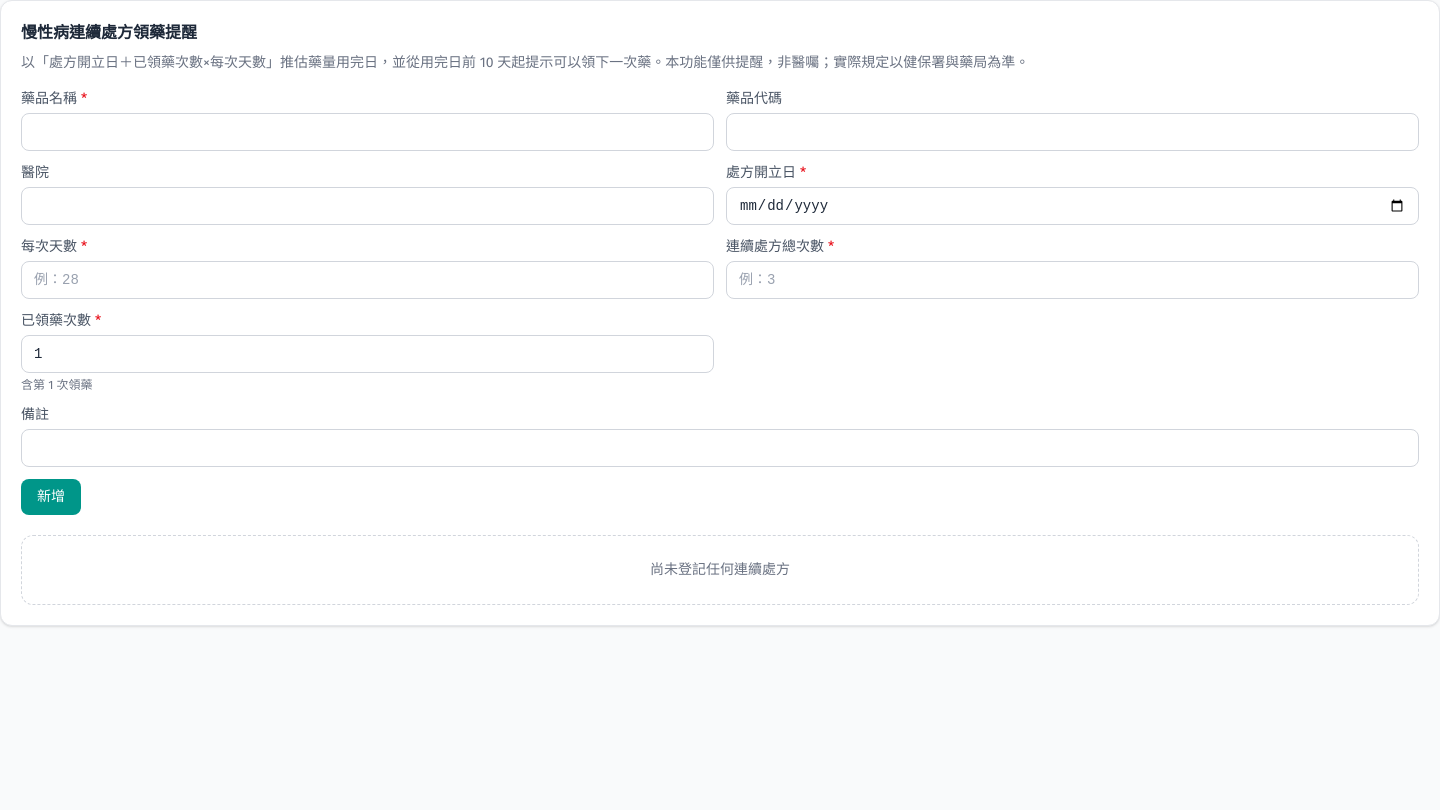
Scenario: RefillPlanner › 新增 › 新增成功後出現在清單，並重置輸入
This screenshot has width=1440, height=810.
Step 1. Type "降血壓藥" into the field labelled "藥品名稱" → (368, 132), box x1=21 y1=113 x2=714 y2=151
Step 2. Type "2026-10-10" into the date field labelled "處方開立日" → (1072, 206), box x1=726 y1=187 x2=1419 y2=225
Step 3. Type "28" into the field labelled "每次天數" → (368, 280), box x1=21 y1=261 x2=714 y2=299
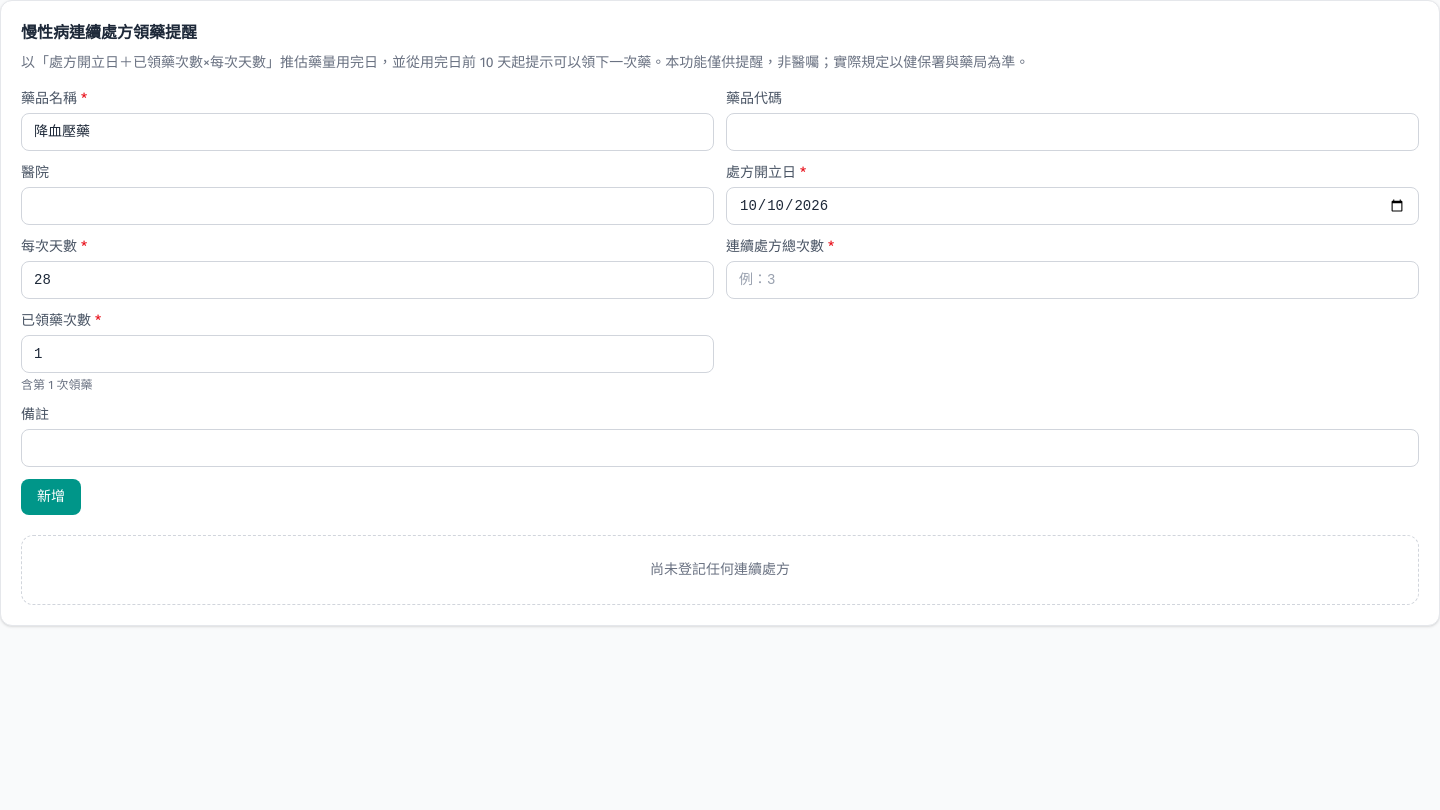
Step 4. Type "3" into the field labelled "連續處方總次數" → (1072, 280), box x1=726 y1=261 x2=1419 y2=299
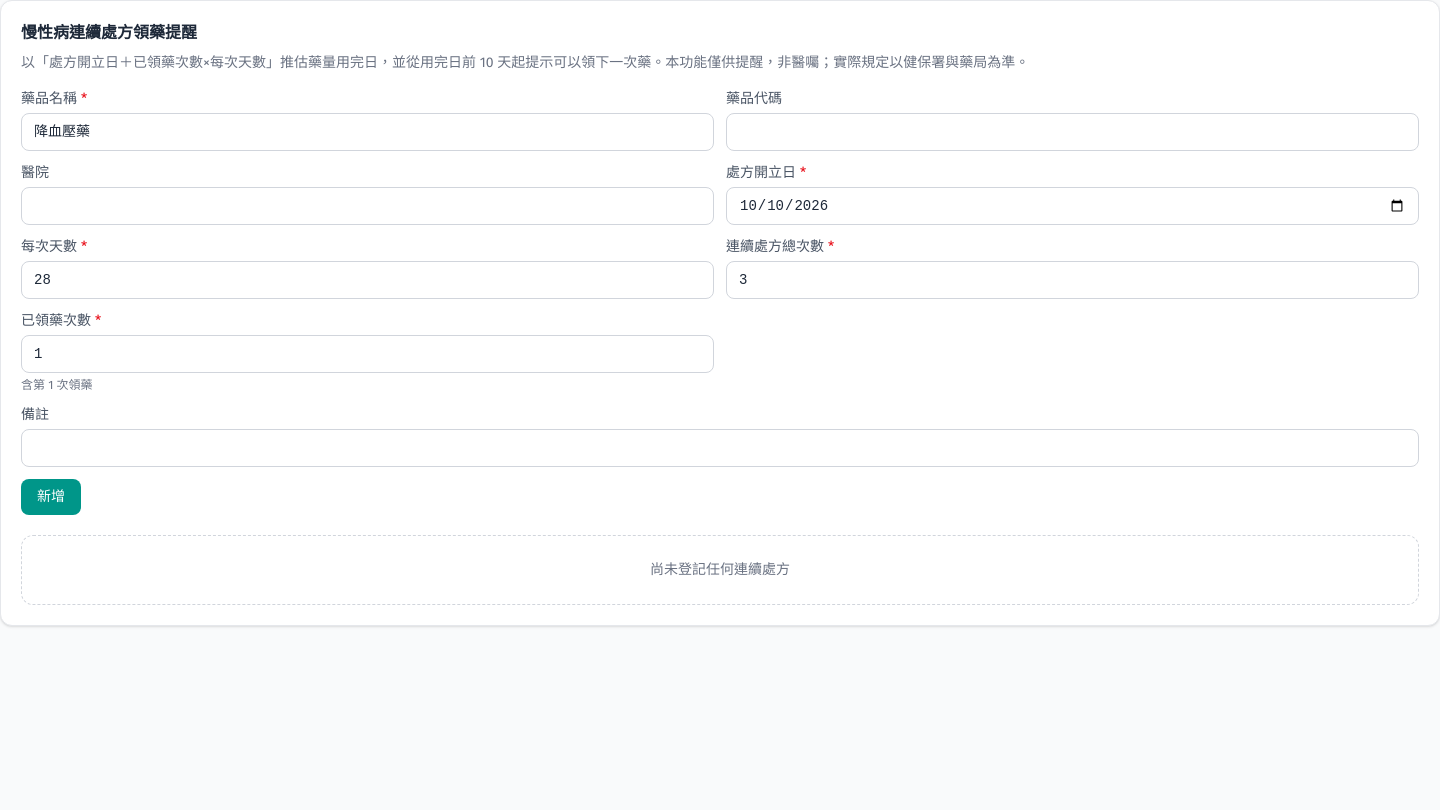
Step 5. Type "AB12345678" into the field labelled "藥品代碼" → (1072, 132), box x1=726 y1=113 x2=1419 y2=151
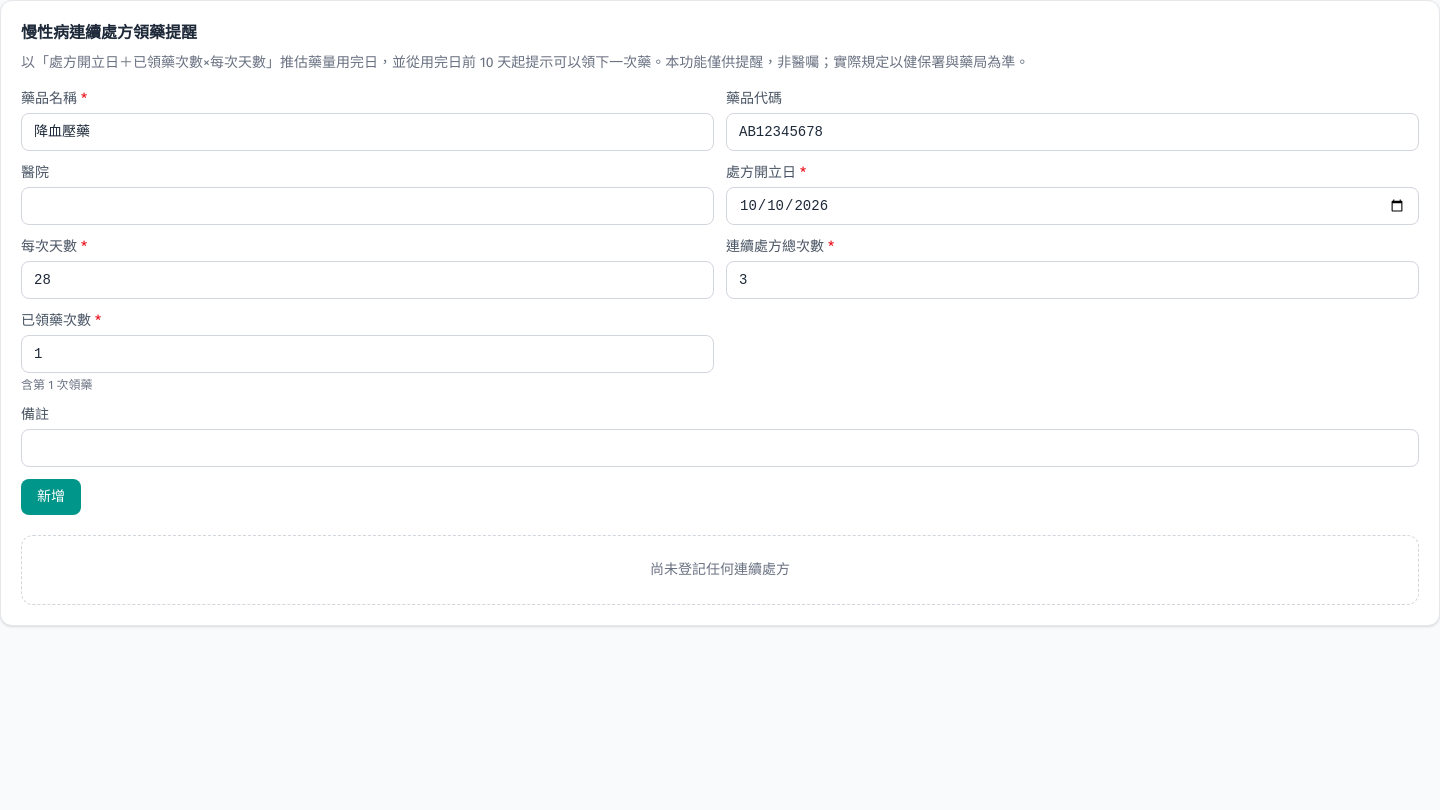
Step 6. Type "台大醫院" into the field labelled "醫院" → (368, 206), box x1=21 y1=187 x2=714 y2=225
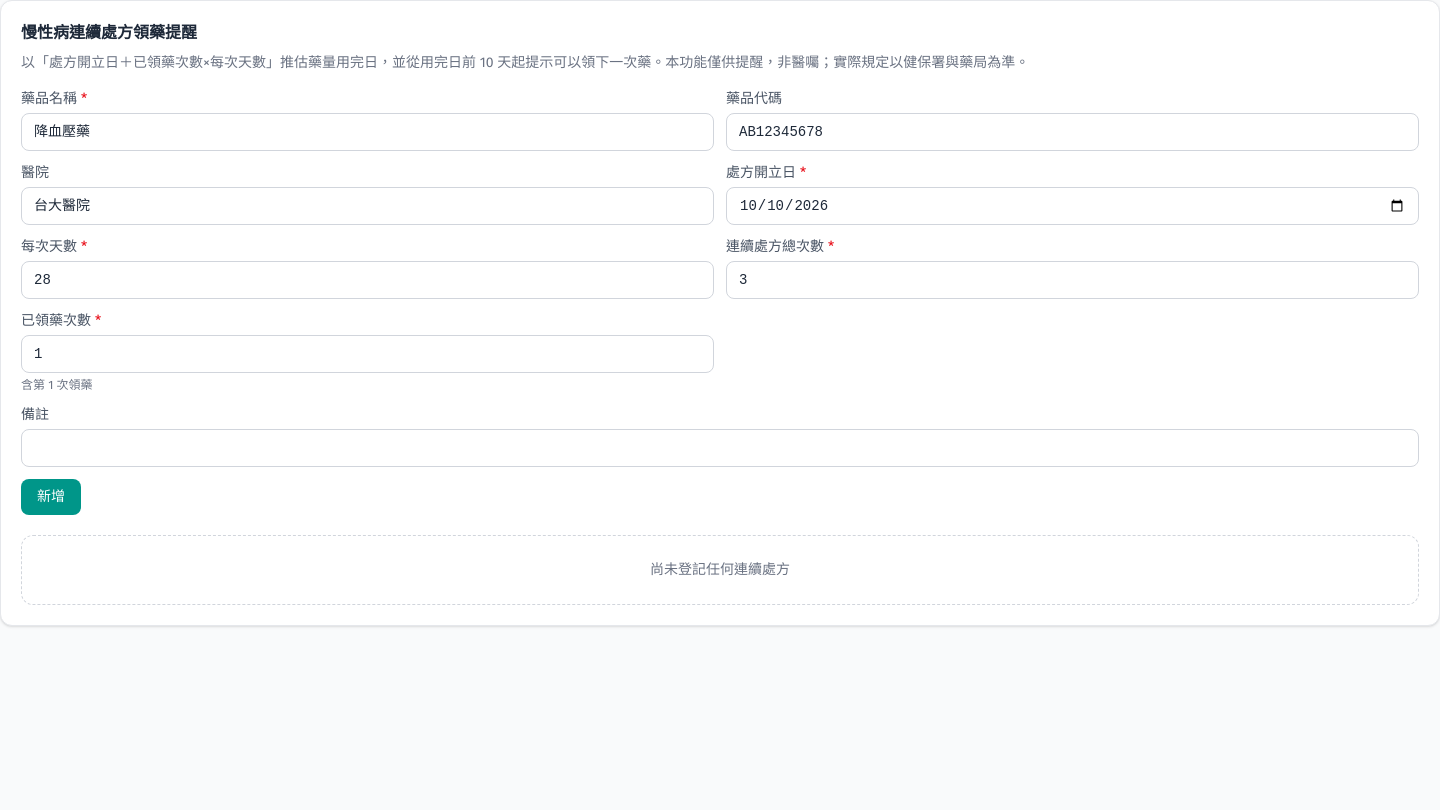
Step 7. Type "飯後服用" into the field labelled "備註" → (720, 448), box x1=21 y1=429 x2=1419 y2=467
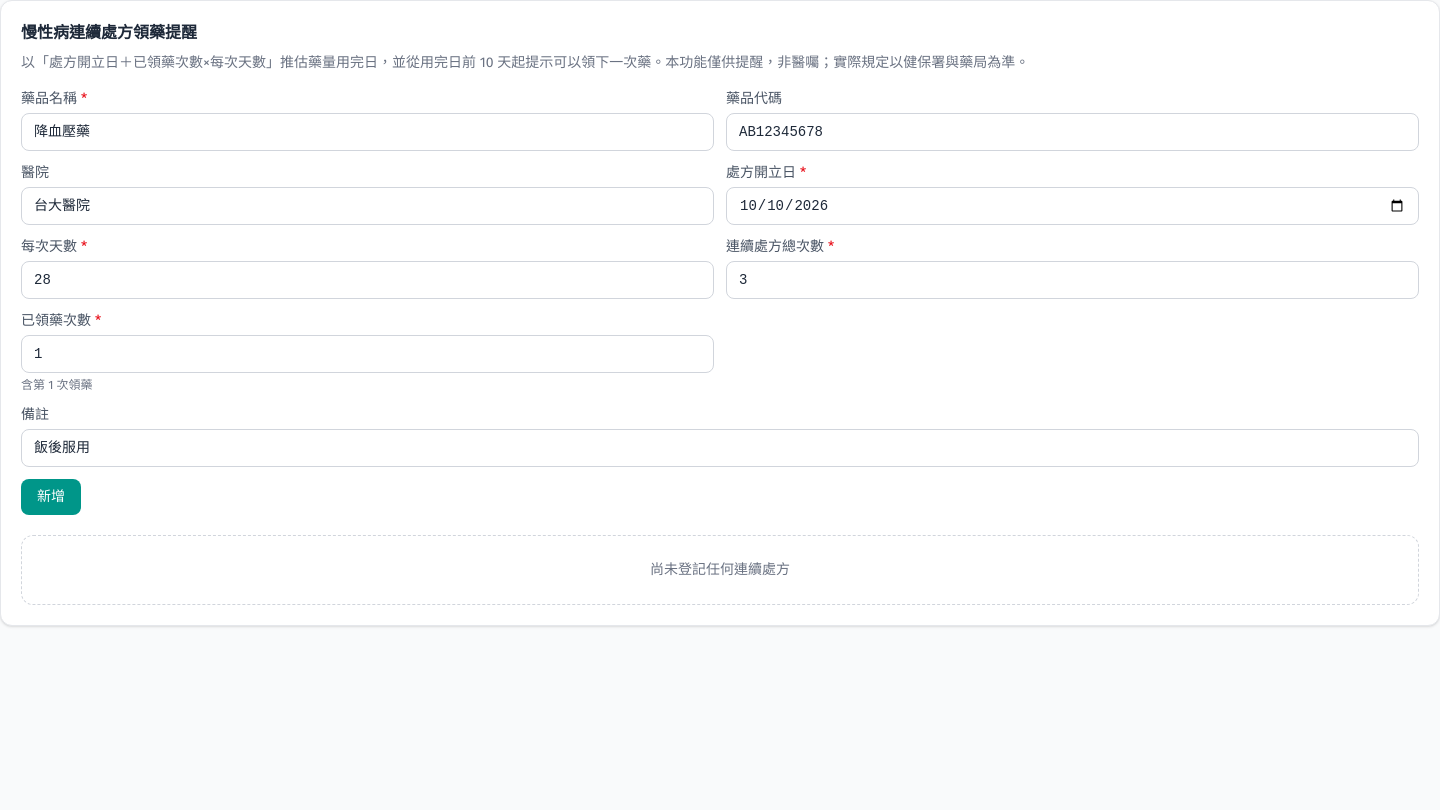
Step 8. Click the button "新增" → (51, 497), box x1=21 y1=479 x2=81 y2=515
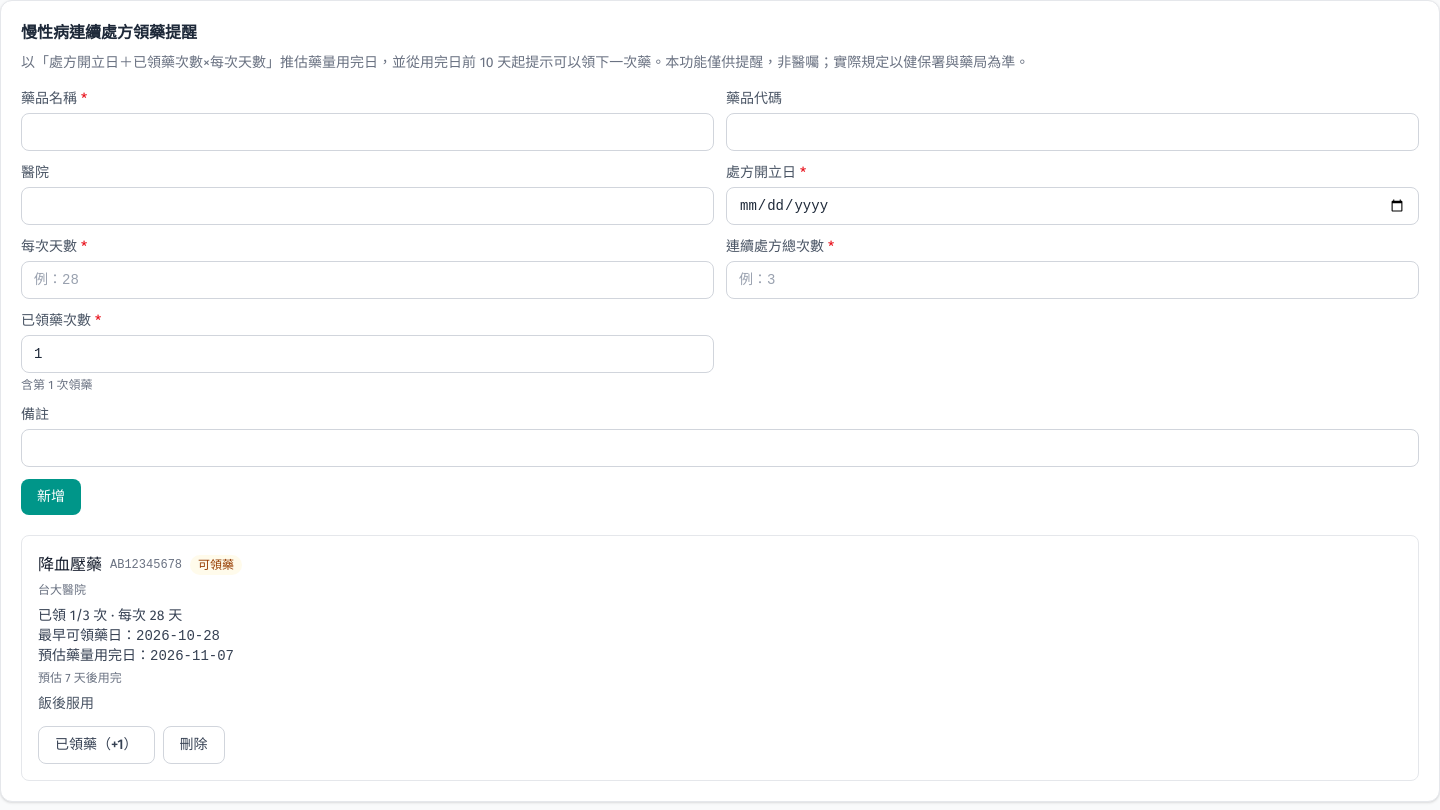
expect the text "可領藥" is shown: met, box x1=190 y1=555 x2=242 y2=575
expect the list item "降血壓藥" shows "台大醫院": met, box x1=38 y1=583 x2=86 y2=597
expect the list item "降血壓藥" shows "已領 1/3 次 · 每次 28 天": met, box x1=38 y1=607 x2=182 y2=624
